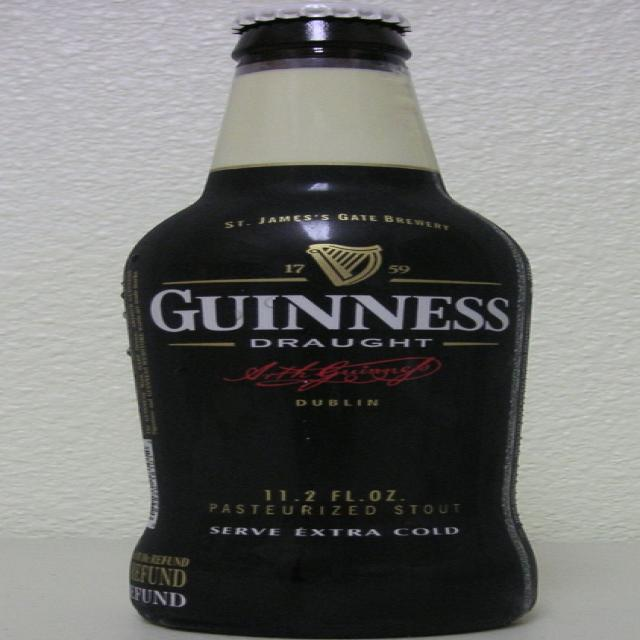guiness: (138, 244, 518, 336)
